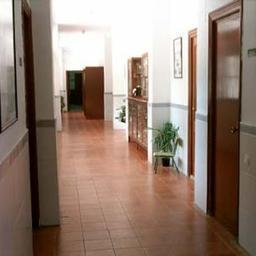Puerta: (209, 16, 240, 237)
